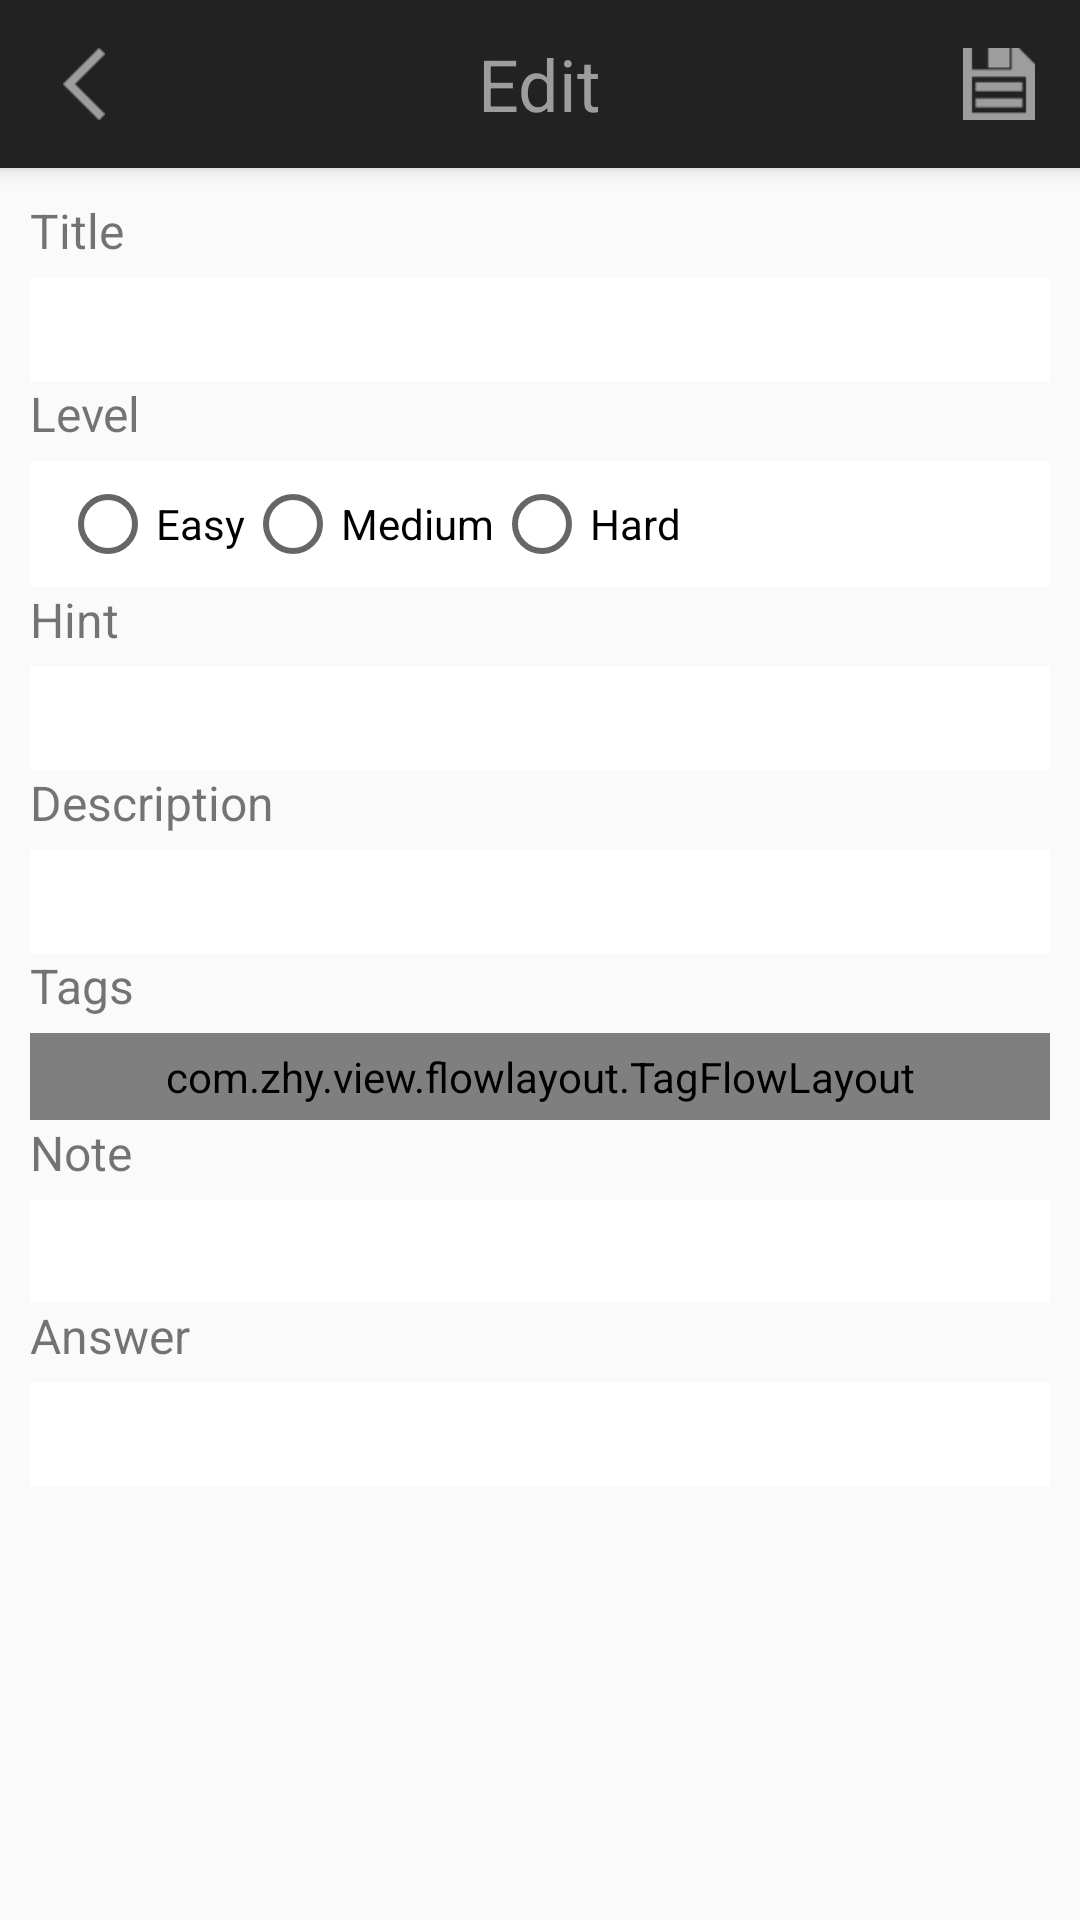

Where icons sit on this 1080w x 1920h app screen, as bbox=[x1, y1, x2, y2]:
back: bbox=[63, 48, 105, 120]
save: bbox=[963, 48, 1035, 120]
